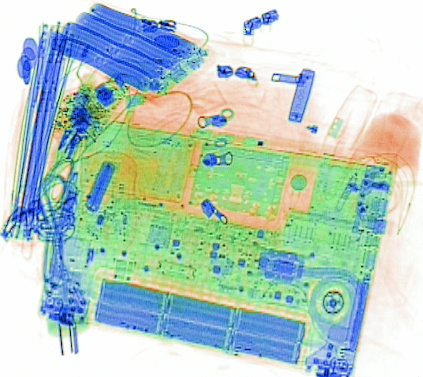powerbank: (47, 0, 208, 96)
